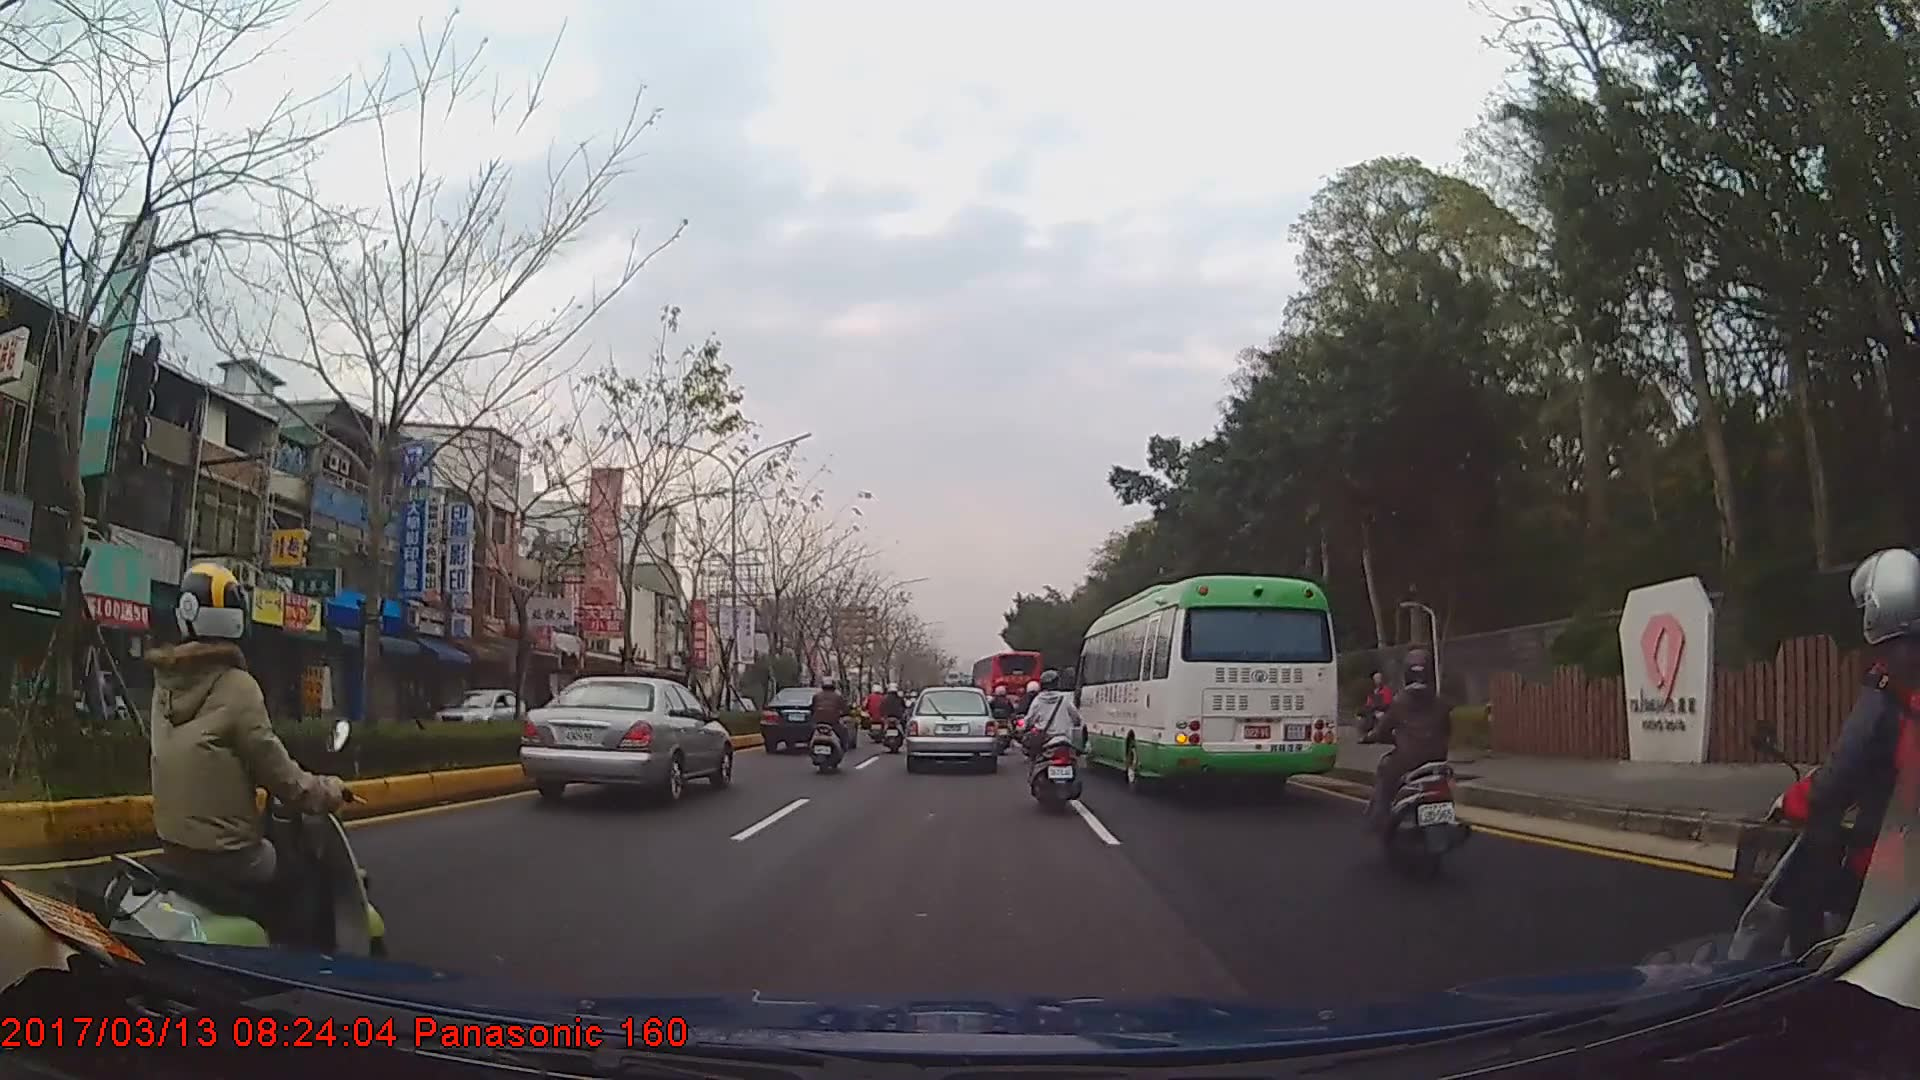pedestrian: (1358, 673, 1397, 749)
rider: (99, 561, 386, 1034), (1725, 548, 1920, 1055), (1364, 651, 1474, 872), (1019, 672, 1080, 816), (808, 675, 851, 774), (880, 683, 907, 754), (986, 686, 1013, 755), (864, 684, 892, 746)
vehicle: (1069, 574, 1338, 793), (519, 673, 731, 809), (904, 687, 1000, 772), (761, 684, 860, 754), (427, 681, 534, 736), (971, 648, 1041, 721)
